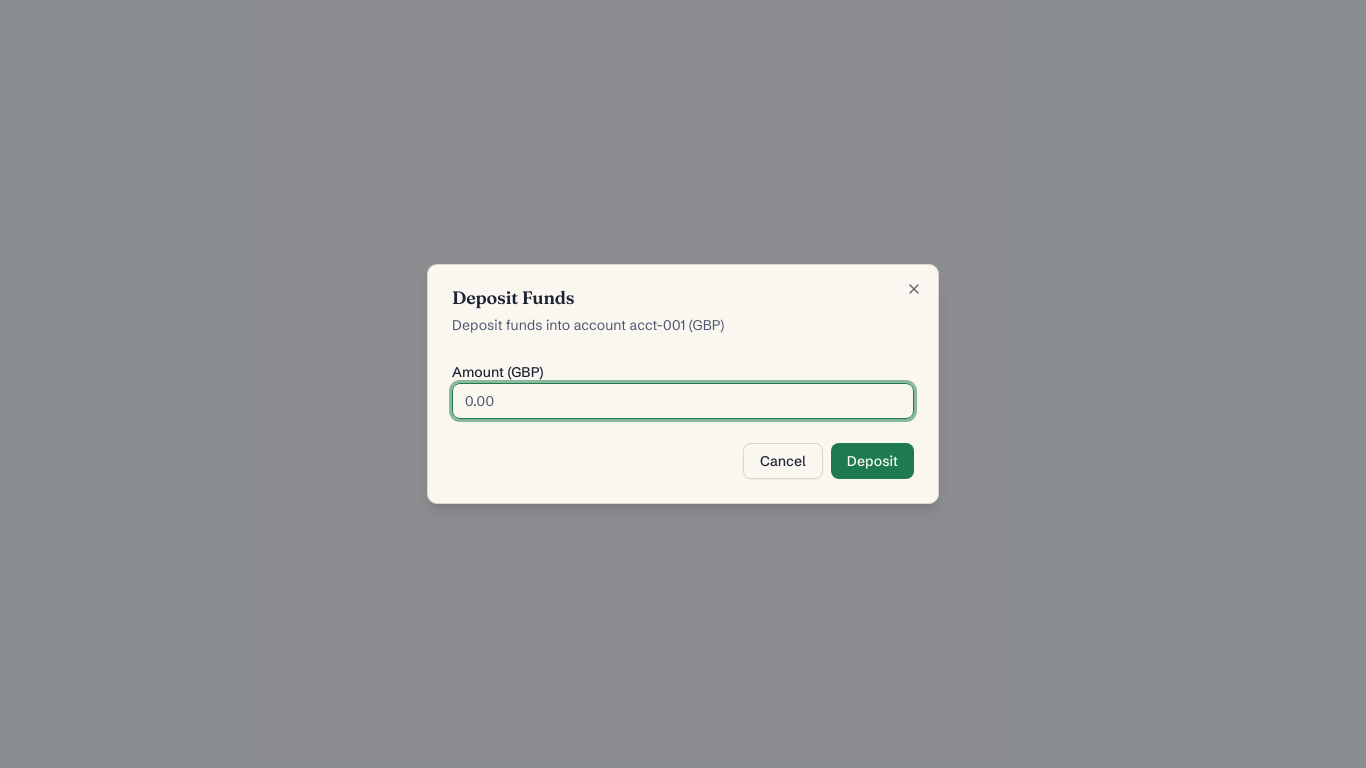
Test: DepositDialog - validation › shows error when amount is empty
Click the button "Deposit" at x=872, y=461, box left=831, top=443, right=914, bottom=479
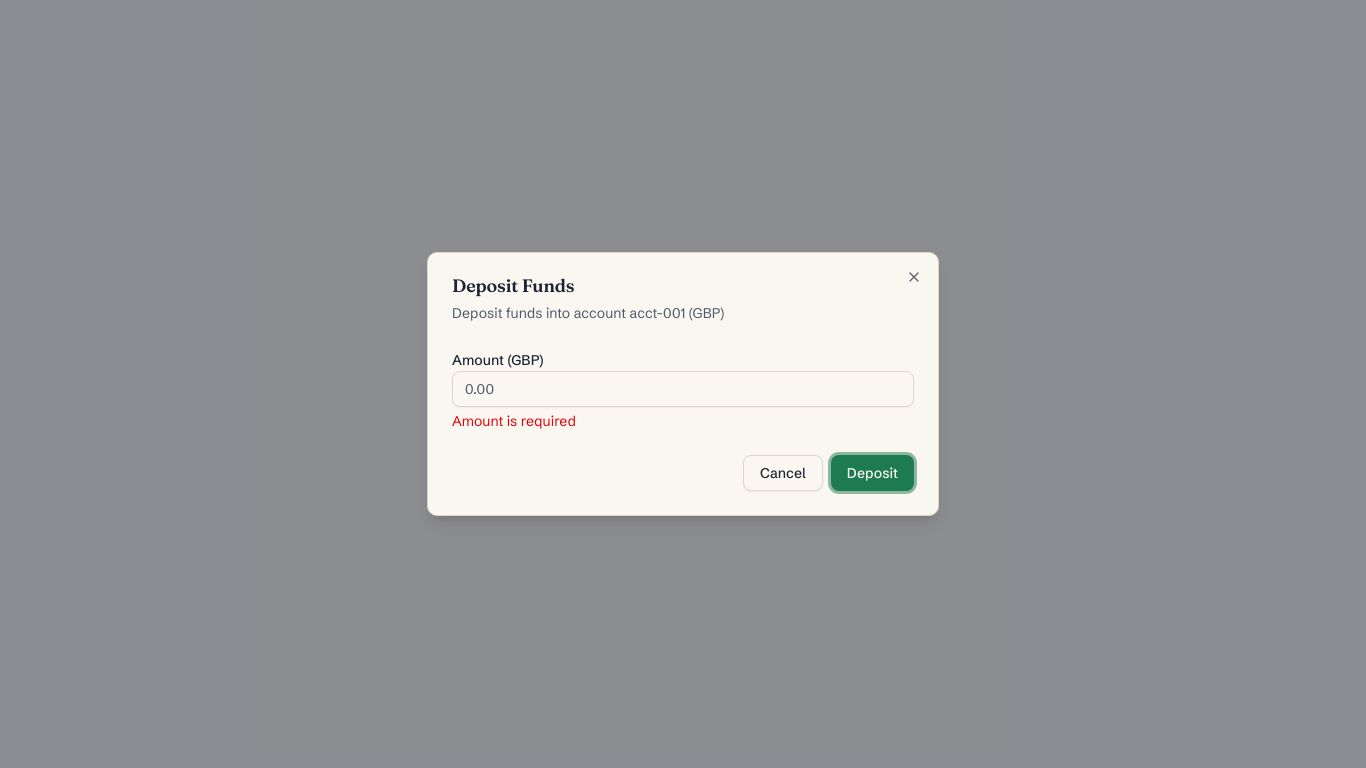
Expected: the text "Amount is required" is shown, left=452, top=412, right=576, bottom=430
